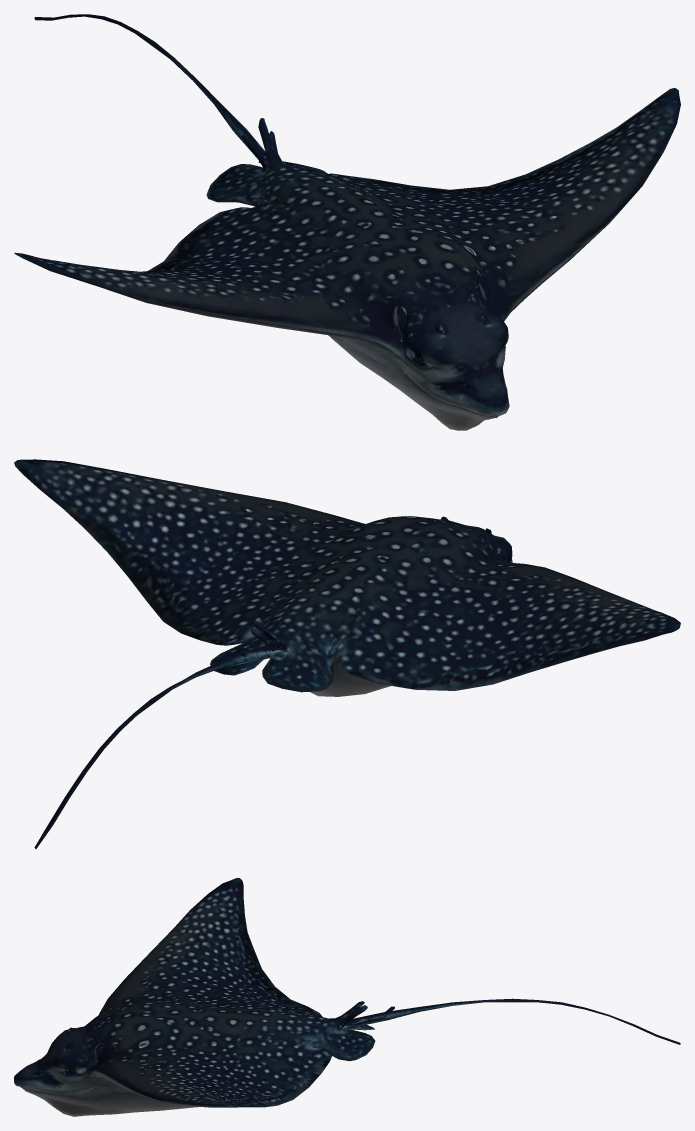
Rendered from adelaarsrog.glb.
The picture shows the model from 3 angles, top to bottom: view 1: azimuth 30°, elevation 25°; view 2: azimuth 150°, elevation 25°; view 3: azimuth 270°, elevation 25°; orthographic projection. The views are drawn at different scales.
Visible parts, largest first — view 1: tripo_node_86eb368a-a943-4e33-a59d-9ad6a0230bf0; view 2: tripo_node_86eb368a-a943-4e33-a59d-9ad6a0230bf0; view 3: tripo_node_86eb368a-a943-4e33-a59d-9ad6a0230bf0.
Boxes of the visible parts, left/top/right/bottom form: tripo_node_86eb368a-a943-4e33-a59d-9ad6a0230bf0: left=14, top=14, right=680, bottom=430; tripo_node_86eb368a-a943-4e33-a59d-9ad6a0230bf0: left=14, top=459, right=680, bottom=848; tripo_node_86eb368a-a943-4e33-a59d-9ad6a0230bf0: left=14, top=878, right=680, bottom=1116.
Bounding box in the file's own units: 4.68 × 1.2 × 5.73.
Materials: 1 (1 with a texture image).
